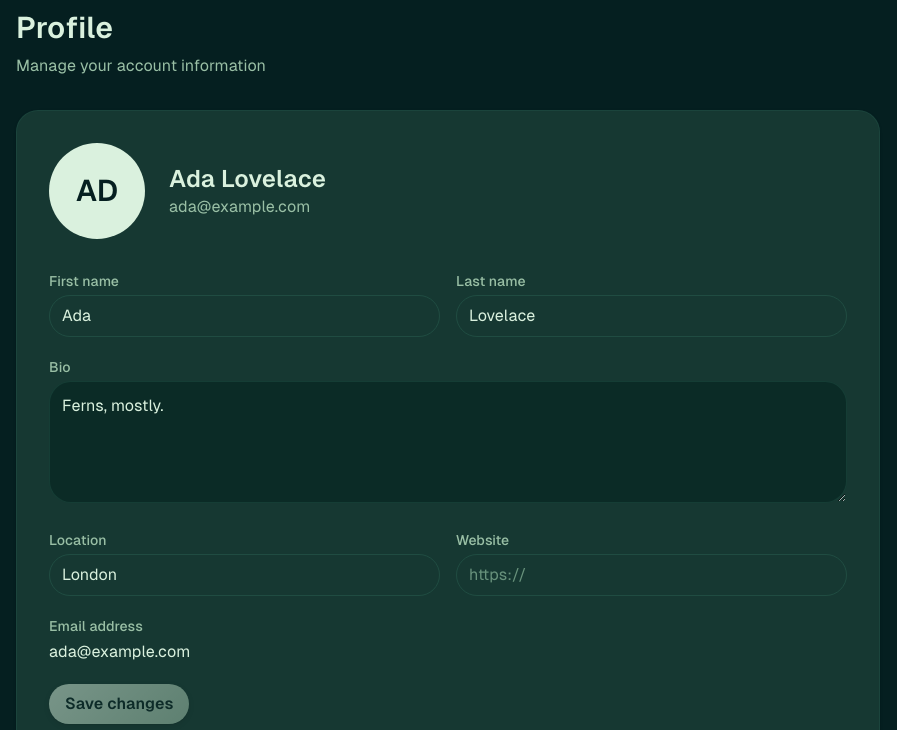
Test: ProfilePage (web dead-code audit M3) › keeps Save disabled until something changes
Check: the field labelled "First name" is shown, box 49,295 -> 440,337
Check: the button "Save changes" is disabled, box 49,684 -> 190,724
In the field labelled "Location": (244, 575) 49,554 -> 440,596, type ", UK"
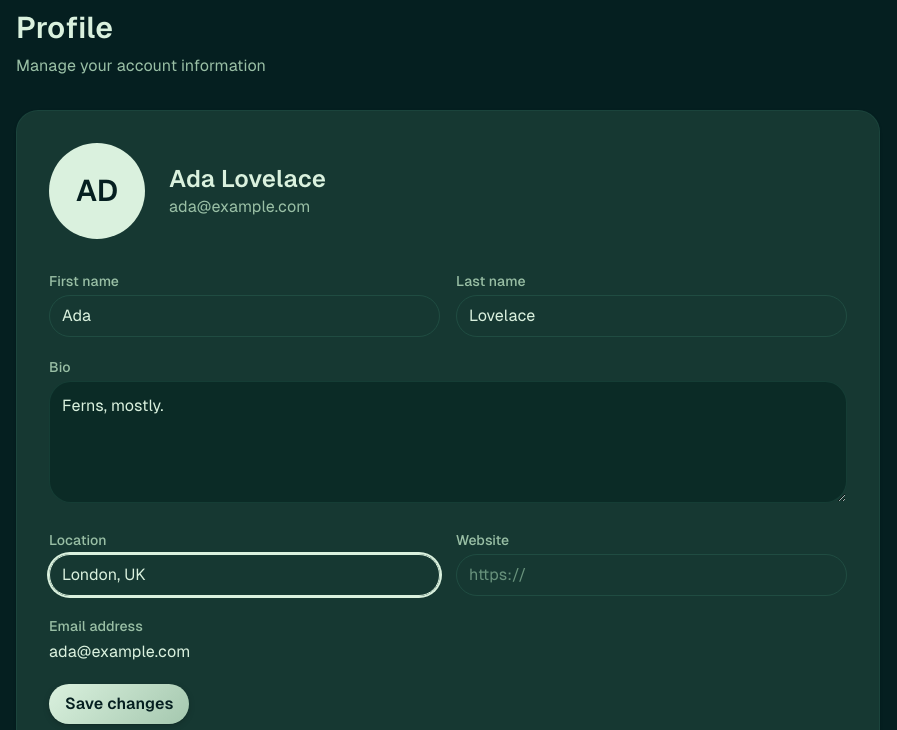
Check: the button "Save changes" is enabled, box 49,684 -> 190,724
